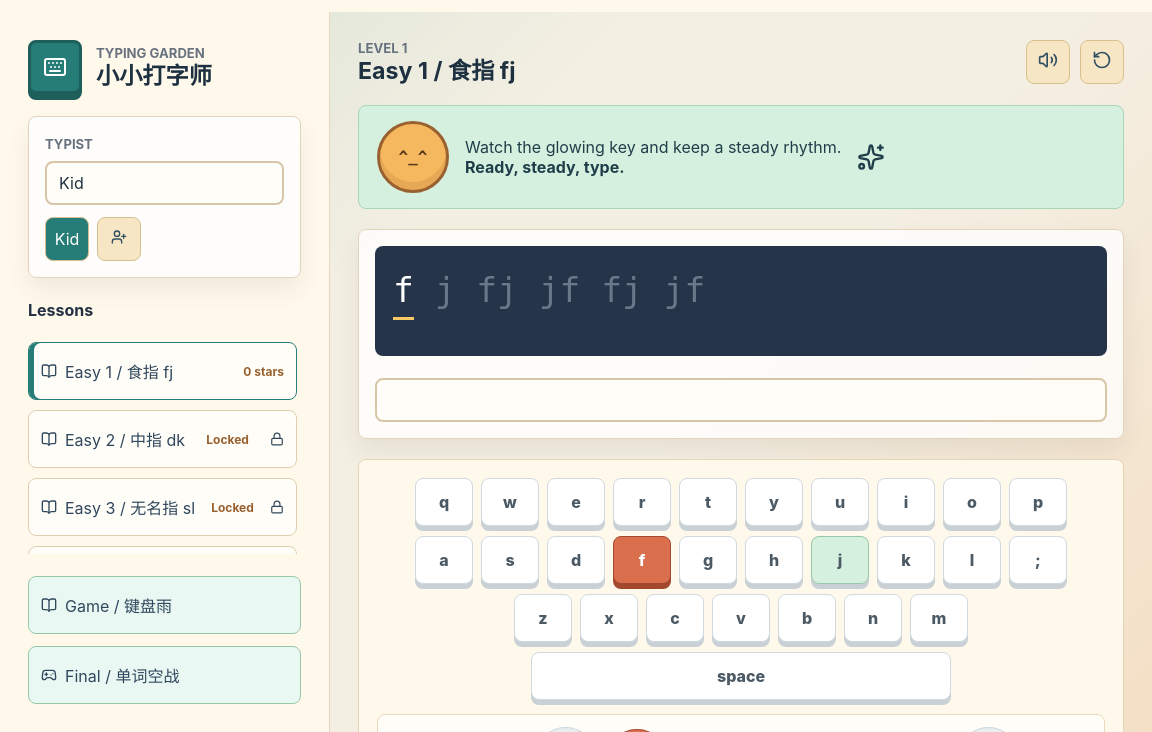
Test: App › lets children practice by clicking the on-screen keyboard
Click the button named "Key f": [642, 560] box x1=613 y1=536 x2=671 y2=584
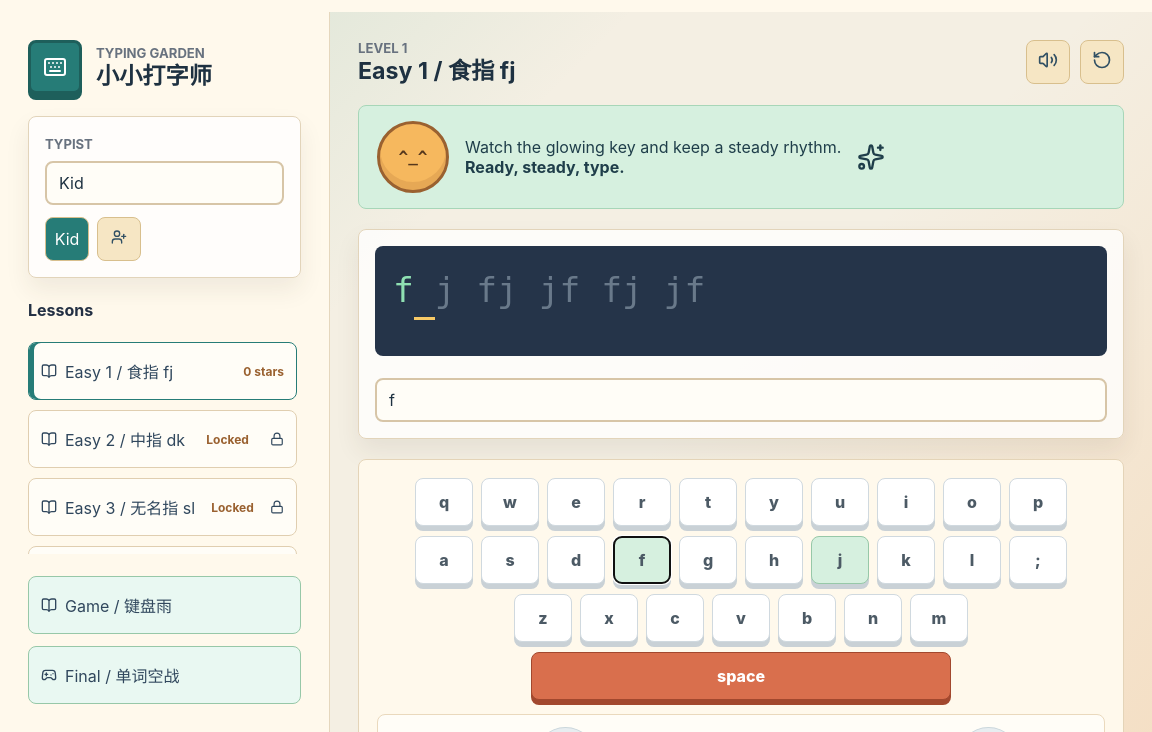
Click the button with aria-label "Key space": [741, 676] box x1=531 y1=652 x2=951 y2=700
(page scrolled)
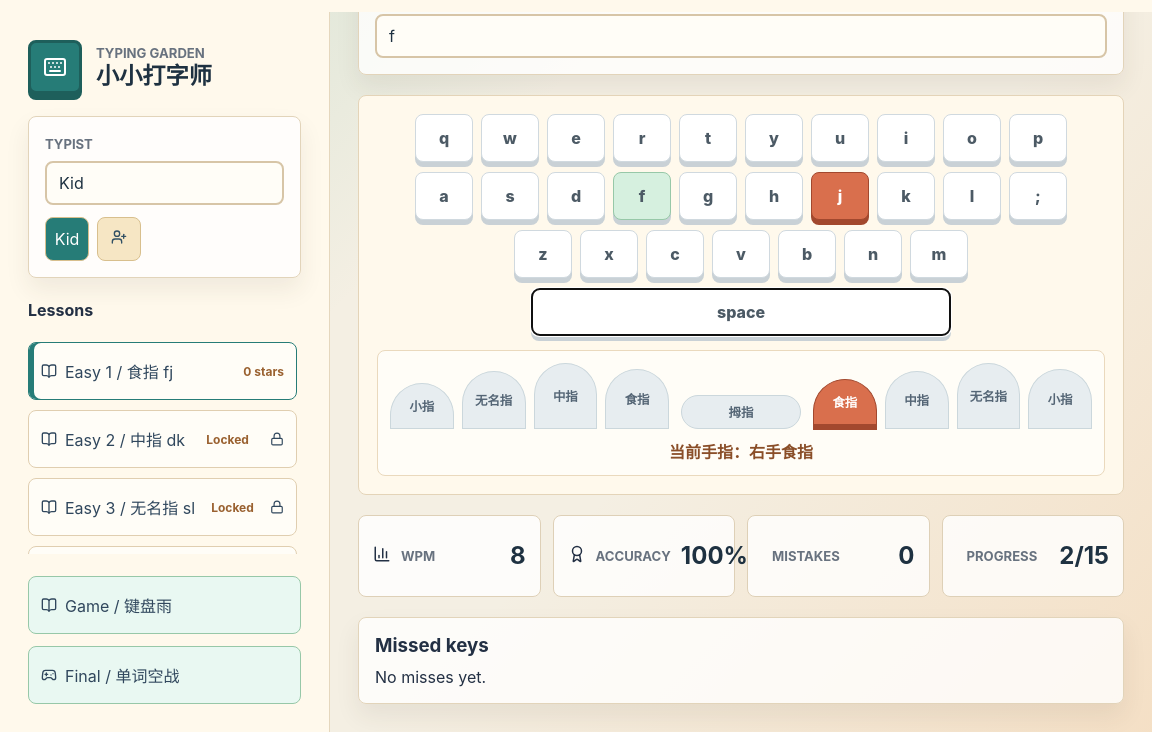
Now the text "2/15" is shown, box x1=1059 y1=541 x2=1109 y2=570
